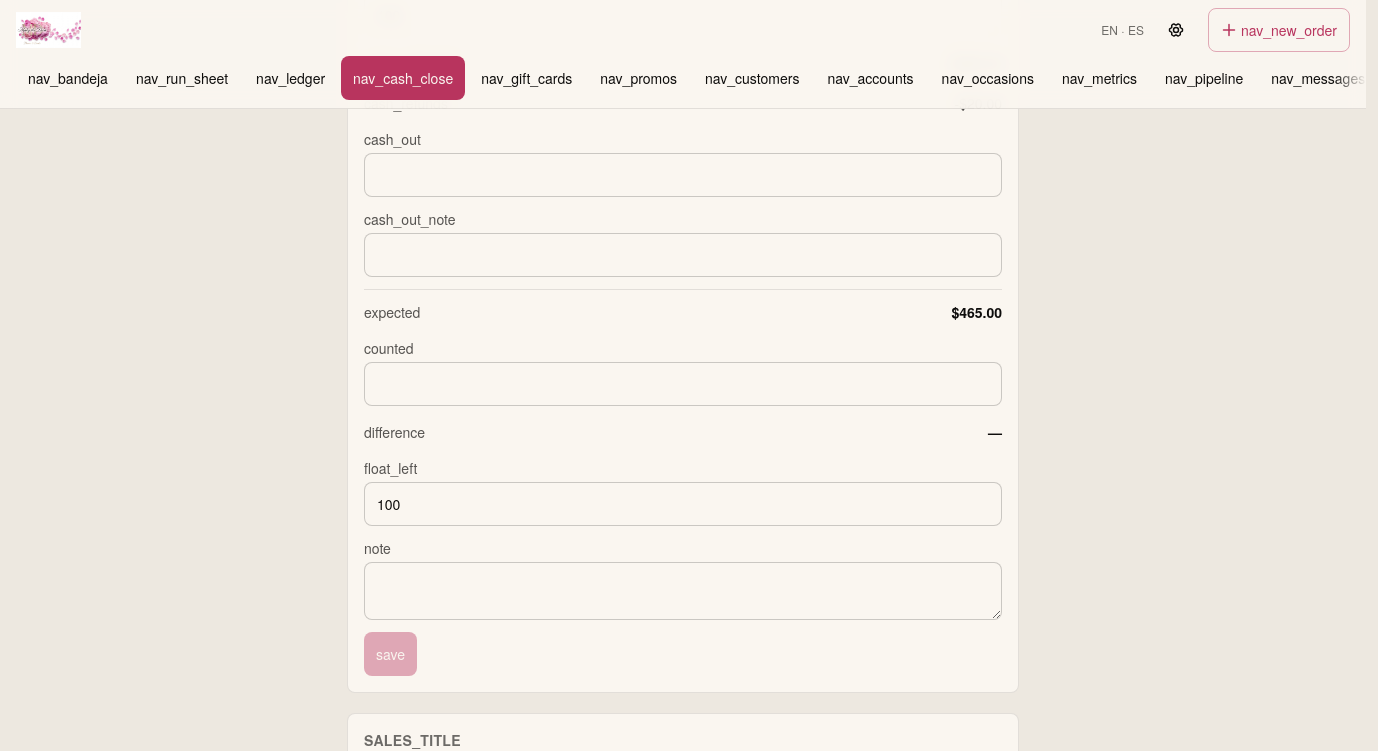
Test: CashCloseView › disables save while a typed amount is not a number
The width and height of the screenshot is (1378, 751).
(page scrolled)
Type "448" into the field labelled "counted" at (683, 384), box [364, 362, 1002, 406]
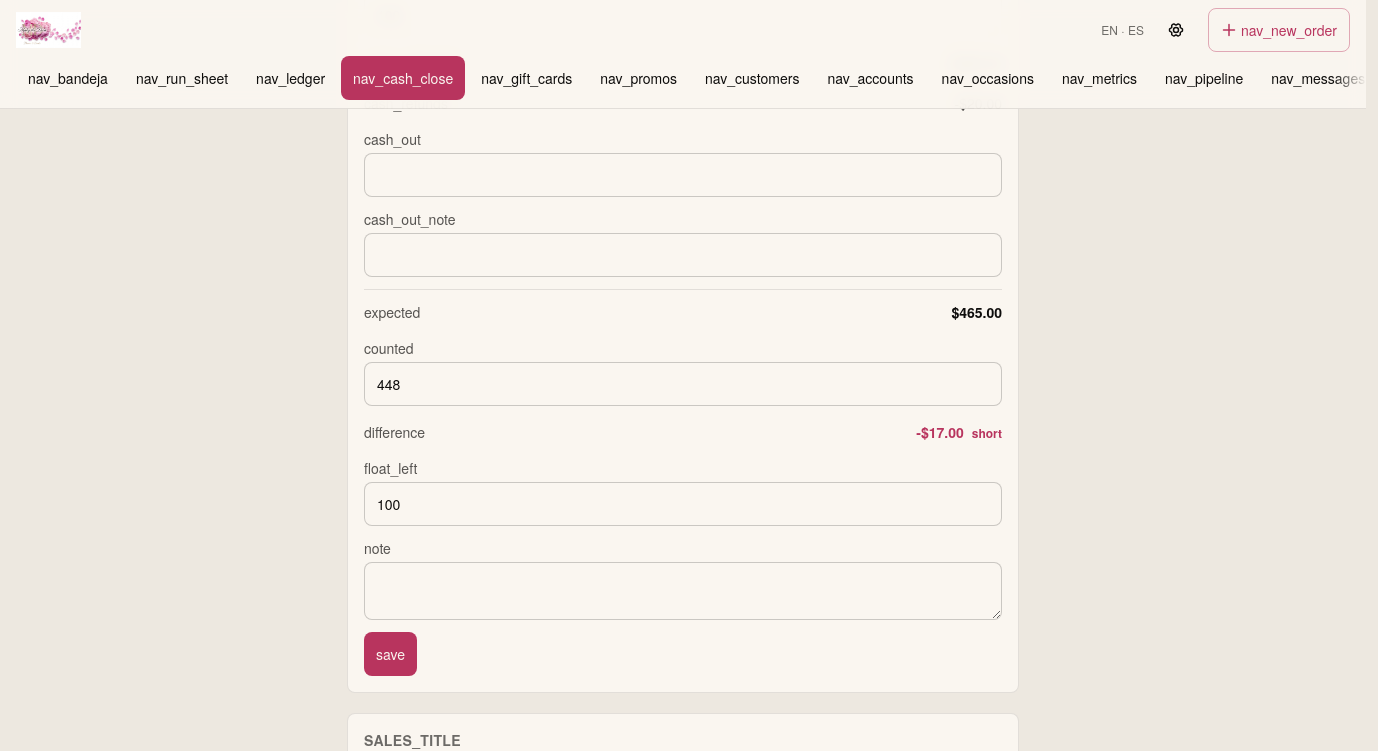
Now the button "save" is enabled, box [364, 632, 417, 676]
Replace the text in the field labelled "counted" with "abc" at (683, 384), box [364, 362, 1002, 406]
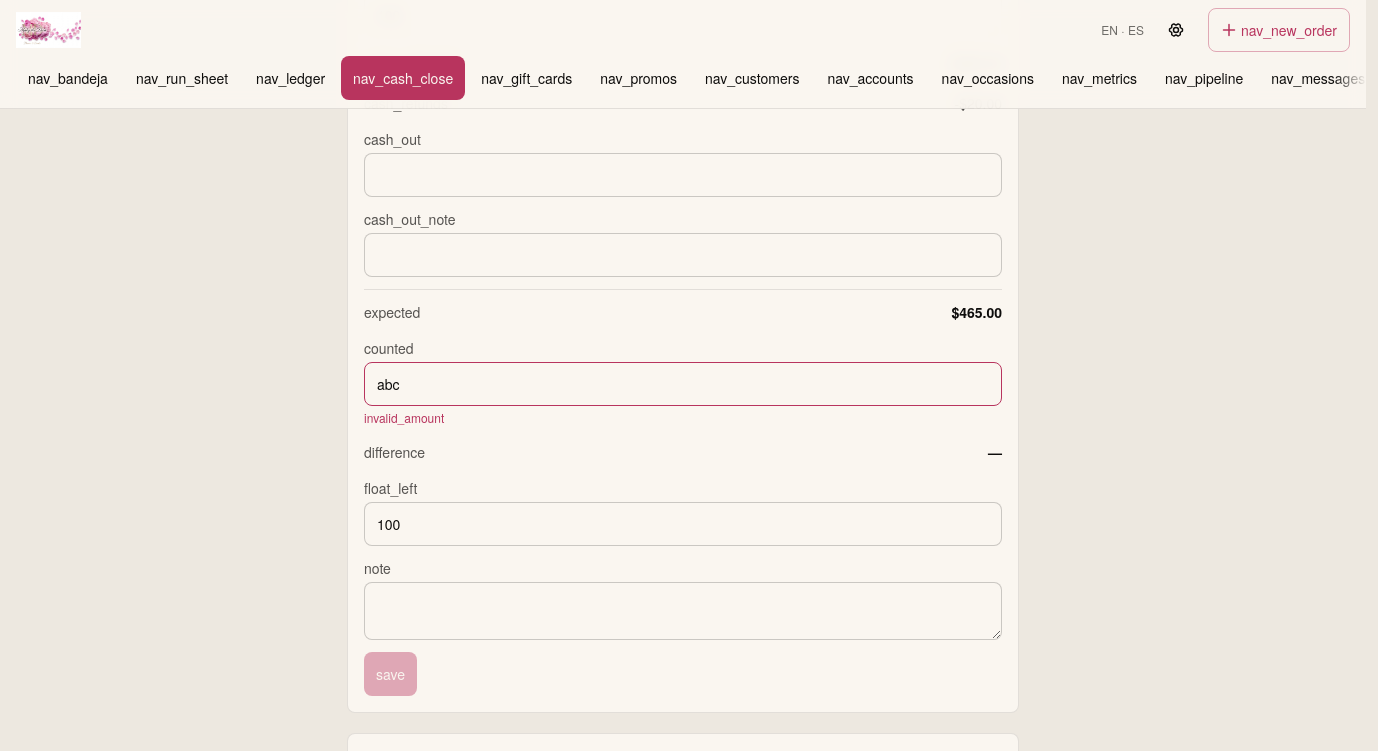
Now the button "save" is disabled, box [364, 652, 417, 696]
Now the text "invalid_amount" is shown, box [364, 409, 444, 426]
